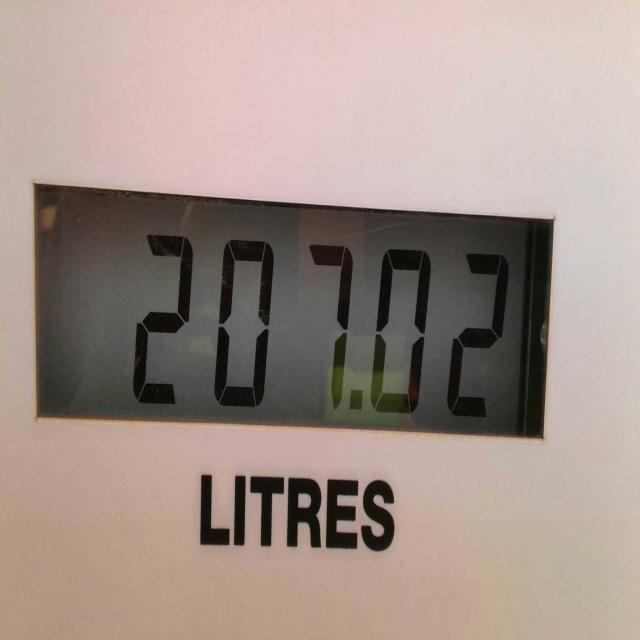.: (344, 374, 368, 423)
0: (206, 222, 281, 410), (365, 239, 435, 433)
2: (122, 220, 195, 413), (450, 248, 518, 434)
7: (300, 233, 354, 428)
